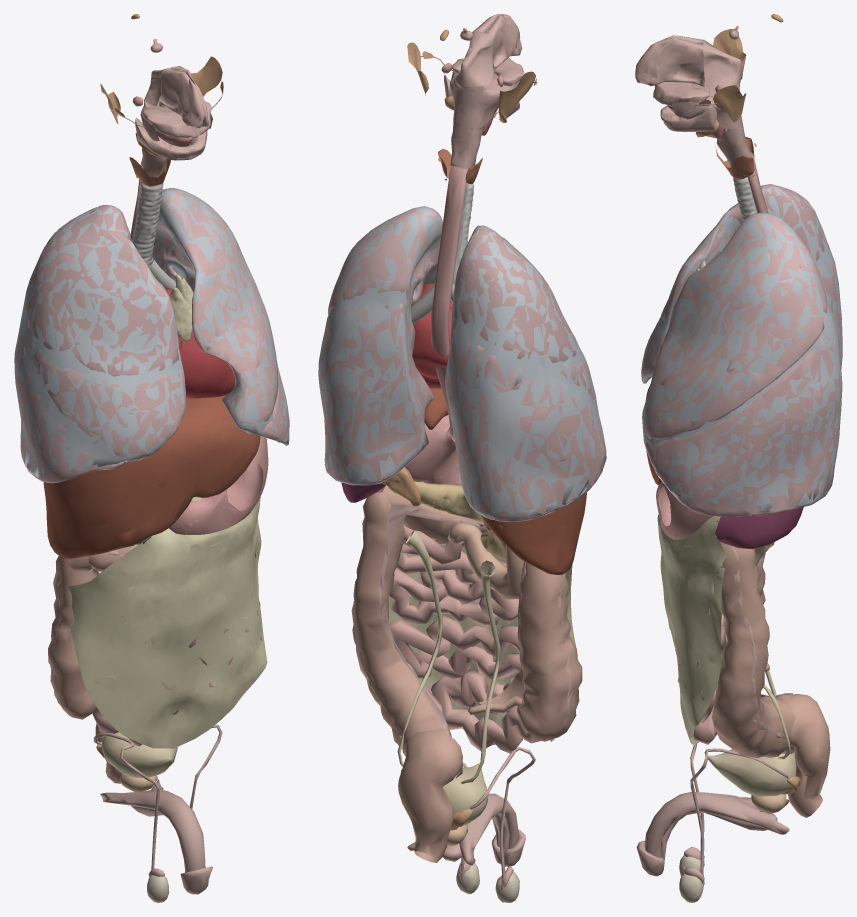
Rendered from organos.glb.
The picture shows the model from 3 angles, left to right: view 1: azimuth 30°, elevation 25°; view 2: azimuth 150°, elevation 25°; view 3: azimuth 270°, elevation 25°; orthographic projection. The views are drawn at different scales.
Visible parts, largest first — view 1: organos; view 2: organos; view 3: organos.
Part boxes in pixels (bbox=[...]): organos: bbox=[14, 14, 289, 902]; organos: bbox=[318, 14, 606, 902]; organos: bbox=[635, 14, 842, 902].
Size of the model in its own units: 0.2612 by 0.8931 by 0.1912.
